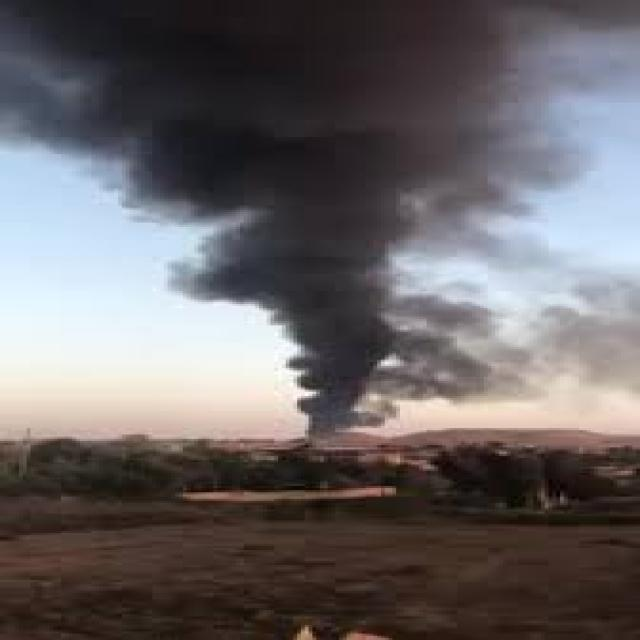Smoke: (5, 0, 640, 445)
